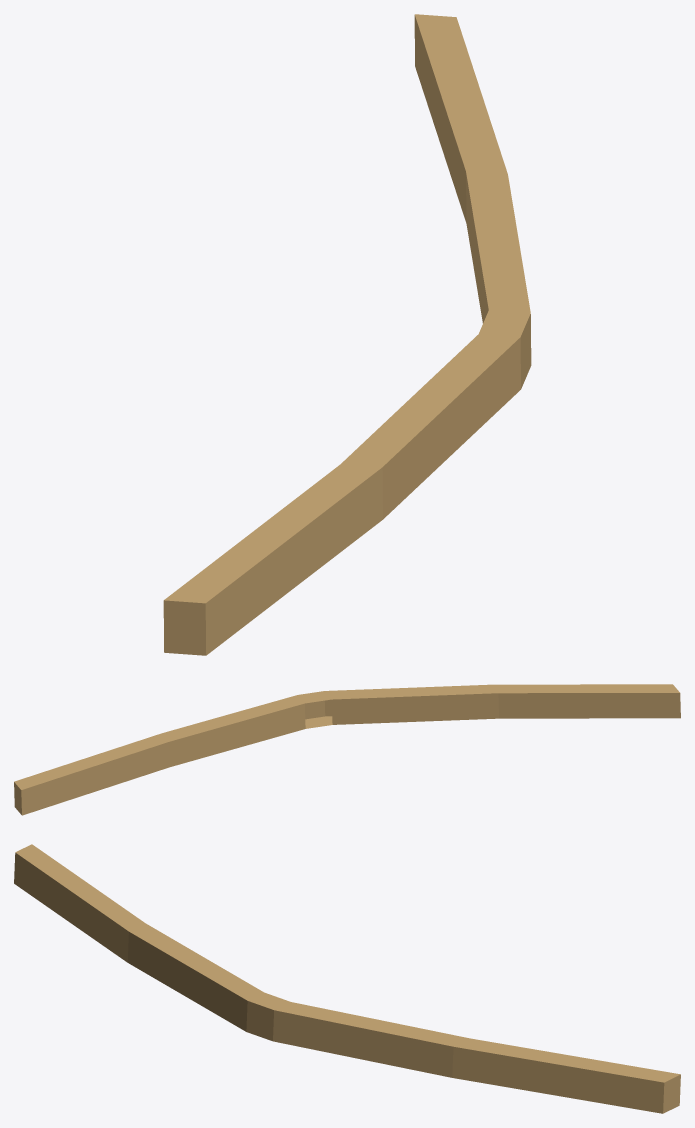
Rendered from unstrung_wooden_bow.glb.
The picture shows the model from 3 angles, top to bottom: view 1: azimuth 30°, elevation 25°; view 2: azimuth 150°, elevation 25°; view 3: azimuth 270°, elevation 25°; orthographic projection. The views are drawn at different scales.
Parts seen in each view (by area): view 1: unstrung_wooden_bow; view 2: unstrung_wooden_bow; view 3: unstrung_wooden_bow.
Boxes of the visible parts, box(x1,y1,x2,y2) form: unstrung_wooden_bow: box(163, 14, 531, 655); unstrung_wooden_bow: box(14, 684, 680, 815); unstrung_wooden_bow: box(14, 844, 680, 1113).
Size of the model in its own units: 0.3854 by 0.0254 by 0.45.
